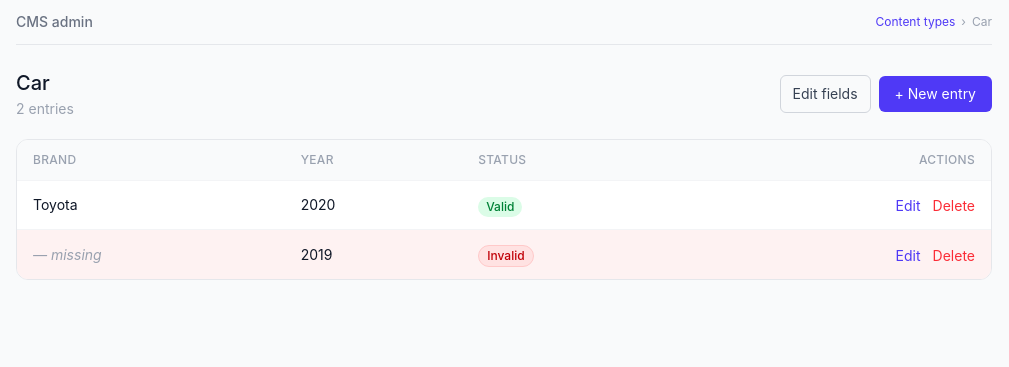
Test: EntryList › Delete shows ErrorBanner when entry not found
Expected: the text "Toyota" is shown, [33,196,78,213]
Click the button "Delete" in the row of "Toyota" at (954,206), box [933,196,975,216]
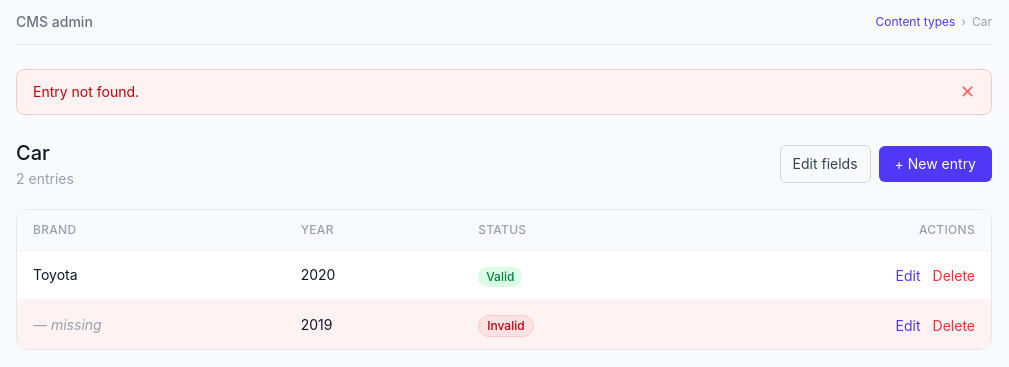
Expected: the text "Entry not found." is shown, [33,82,139,102]
